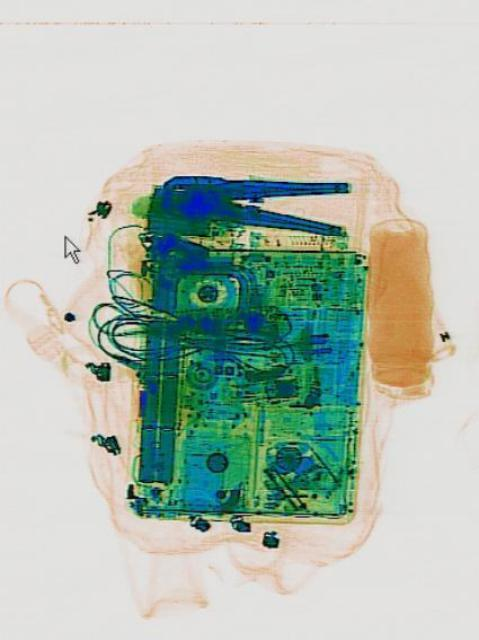Pliers: (156, 162, 349, 236)
